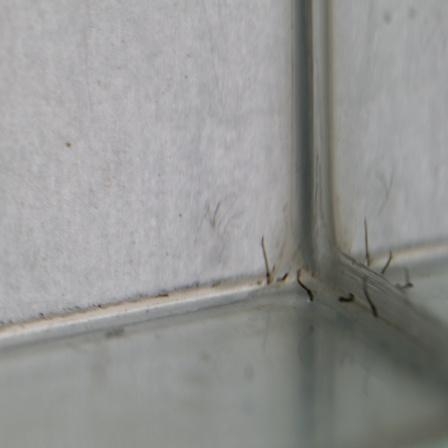Jentik-Nyamuk: (359, 270, 380, 322), (292, 266, 319, 306), (256, 235, 276, 288), (332, 288, 357, 308)
